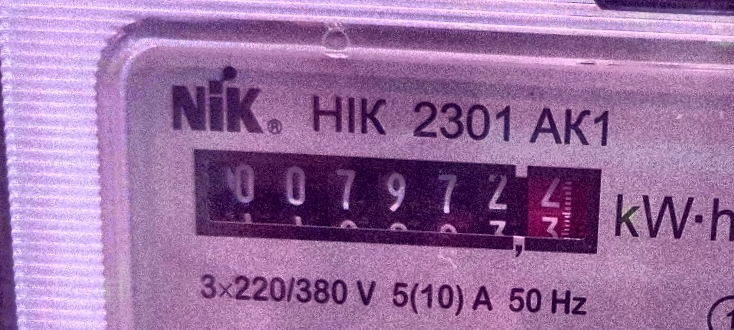0: (231, 161, 259, 204), (282, 163, 309, 206)
2: (486, 172, 511, 212), (538, 175, 562, 210)
3: (538, 213, 561, 239)
7: (433, 170, 461, 217), (332, 165, 359, 212)
9: (383, 169, 407, 213)
screen: (172, 132, 620, 272)
